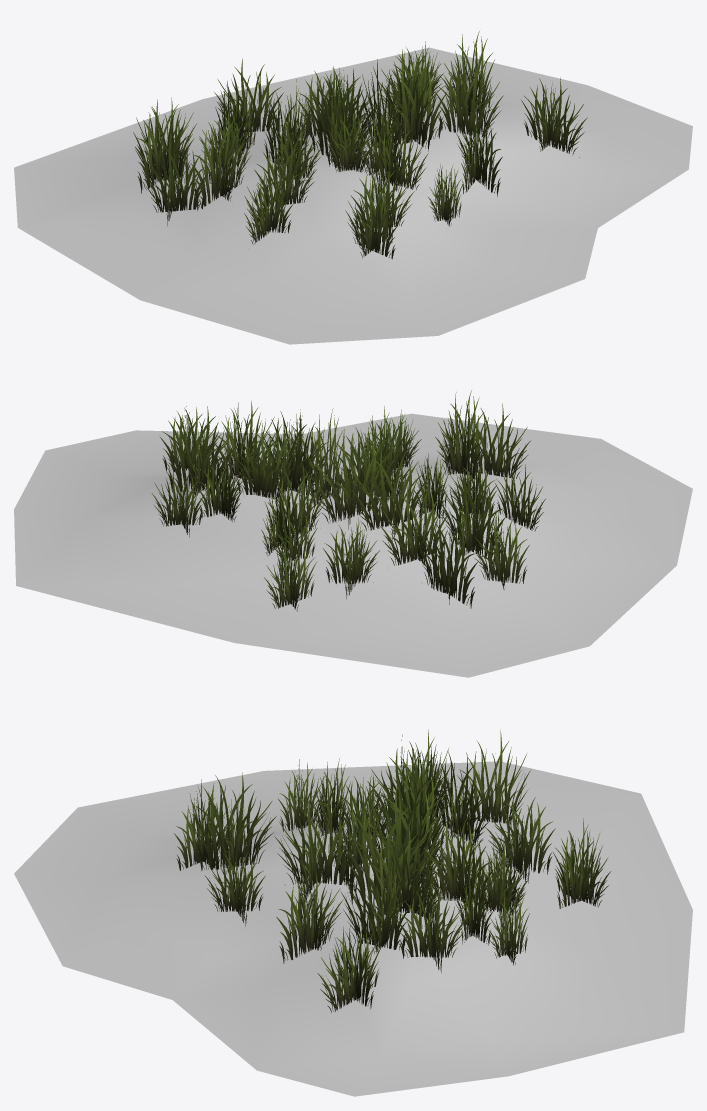
File: Soil_Grass_03.fbx
The picture shows the model from 3 angles, top to bottom: view 1: azimuth 30°, elevation 25°; view 2: azimuth 150°, elevation 25°; view 3: azimuth 270°, elevation 25°; orthographic projection. The views are drawn at different scales.
Visible parts, largest first — view 1: Soil_Grass_03; view 2: Soil_Grass_03; view 3: Soil_Grass_03.
Part boxes in pixels (x1=…): Soil_Grass_03: x1=14, y1=31, x2=692, y2=344; Soil_Grass_03: x1=14, y1=390, x2=692, y2=677; Soil_Grass_03: x1=14, y1=729, x2=692, y2=1096.
Bounding box in the file's own units: 10.17 × 2.07 × 8.7.
